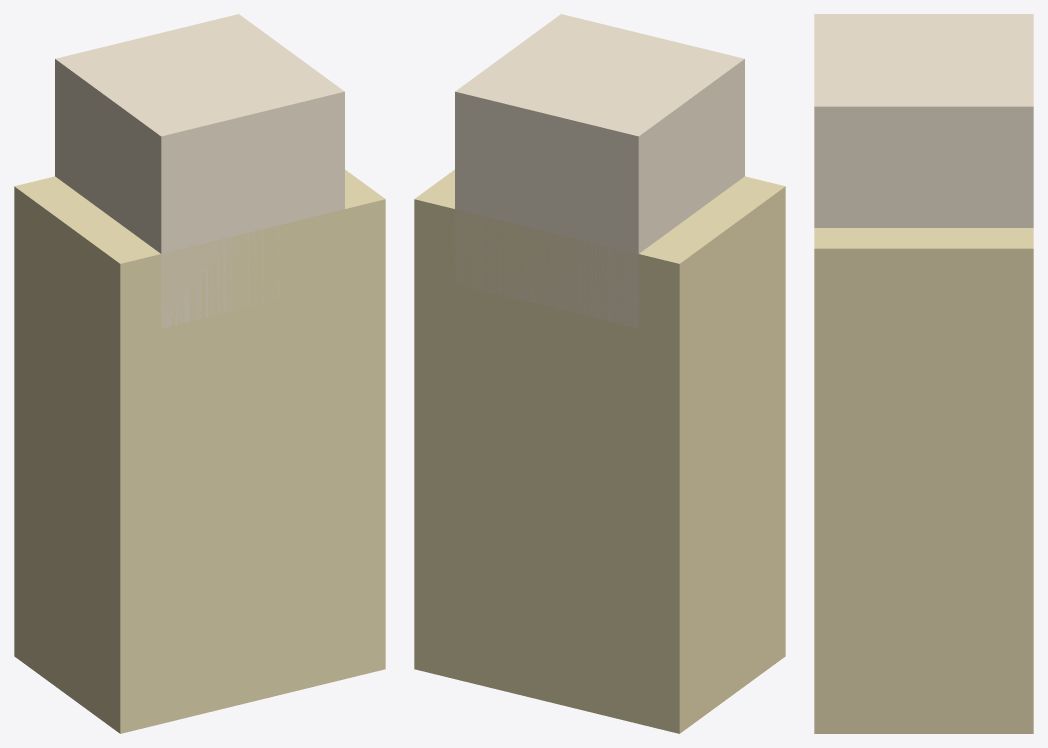
File: npc.glb
3 renders of one model, left to right at view 1: azimuth 30°, elevation 25°; view 2: azimuth 150°, elevation 25°; view 3: azimuth 270°, elevation 25°, orthographic. The views are drawn at different scales.
Parts seen in each view (by area): view 1: Torso, Head; view 2: Torso, Head; view 3: Torso, Head.
Part boxes in pixels (left/top/right/bottom): Torso: left=14, top=169, right=385, bottom=733; Head: left=55, top=14, right=344, bottom=328; Torso: left=414, top=169, right=785, bottom=733; Head: left=455, top=14, right=744, bottom=328; Torso: left=814, top=228, right=1033, bottom=733; Head: left=814, top=14, right=1033, bottom=227.
Bounding box in the file's own units: 0.65 × 1.38 × 0.45.
